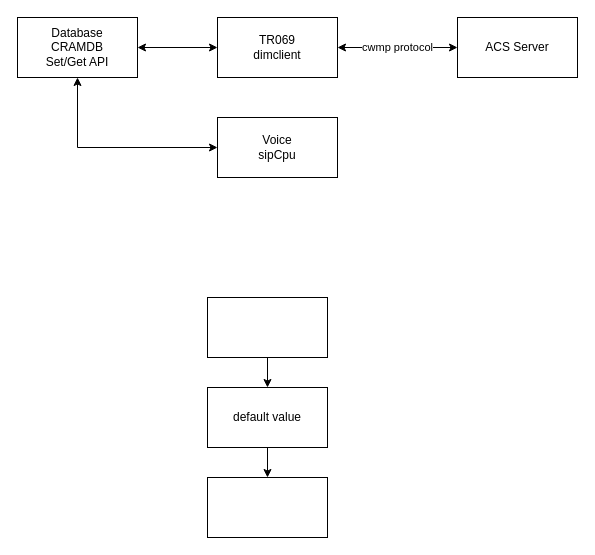
The diagram is 595 pixels wide and 555 high, and some of its shapes have lost their labels. Each missing label, with the box of its shape:
Create voice database: (206, 296, 328, 358)
Get API: (206, 476, 328, 538)
